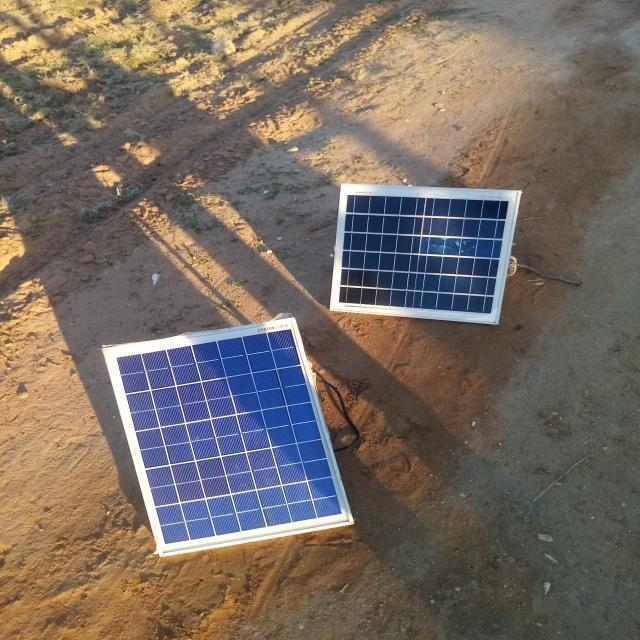Normal Solar Panel: (104, 319, 352, 556), (330, 183, 522, 324)
